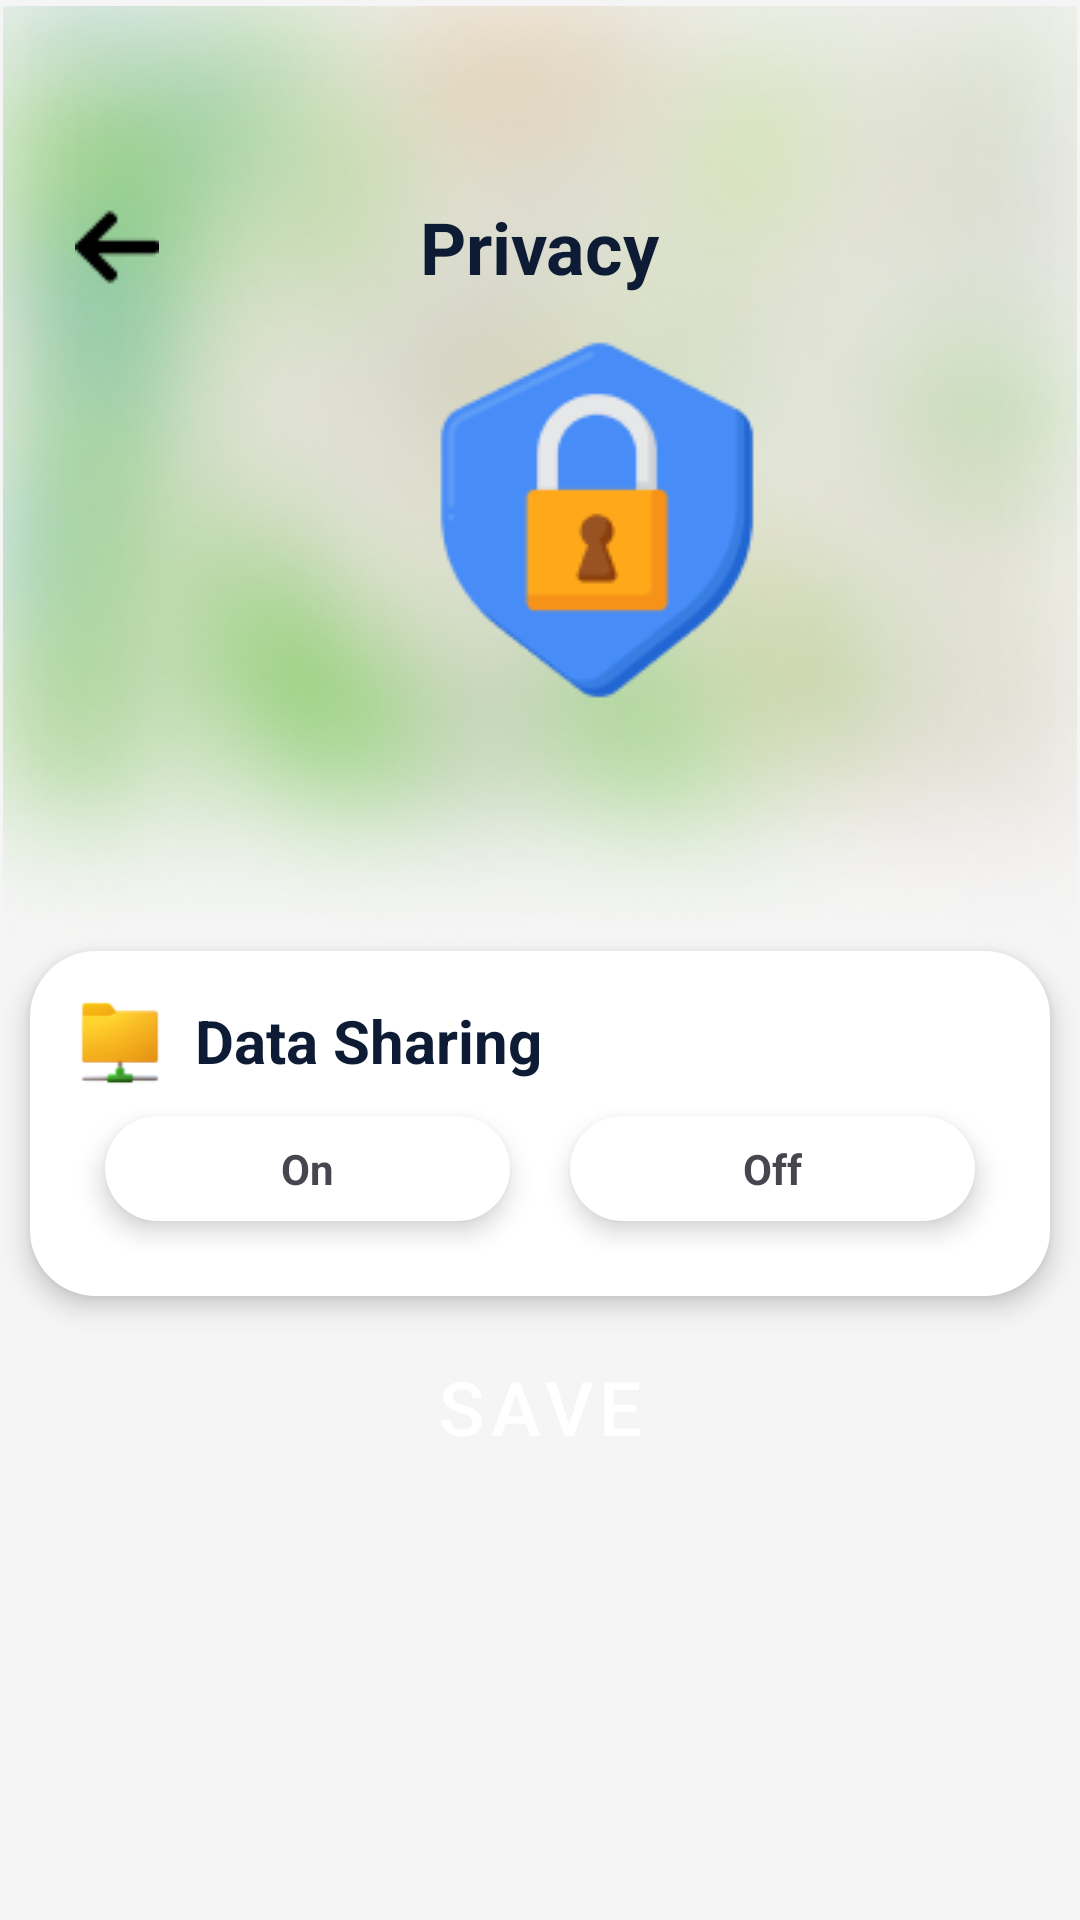

Point at icon controls on the screen. Image size 1080x1920, points as (x=x, y=y).
shared folder: (x=120, y=1042)
